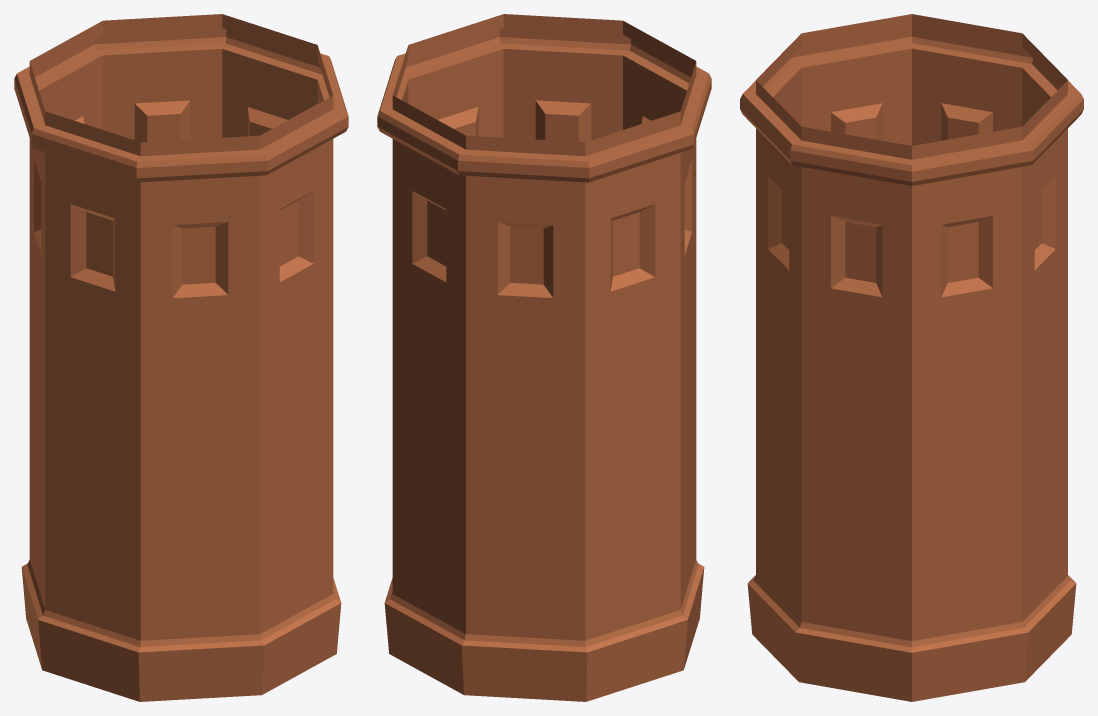
The model's file is SM_tower_octasided_02.fbx.
3 renders of one model, left to right at view 1: azimuth 30°, elevation 25°; view 2: azimuth 150°, elevation 25°; view 3: azimuth 270°, elevation 25°, orthographic.
Parts seen in each view (by area): view 1: tower_octasided_02; view 2: tower_octasided_02; view 3: tower_octasided_02.
Part boxes in pixels (x1,y1,x2,y2): tower_octasided_02: (14,14,348,701); tower_octasided_02: (377,14,711,701); tower_octasided_02: (740,14,1083,701).
Bounding box in the file's own units: 250 × 446 × 250.
